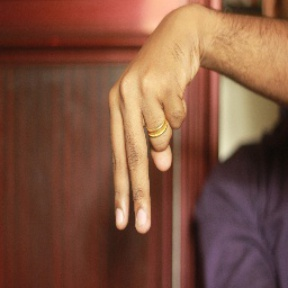Y: (92, 39, 194, 234)
